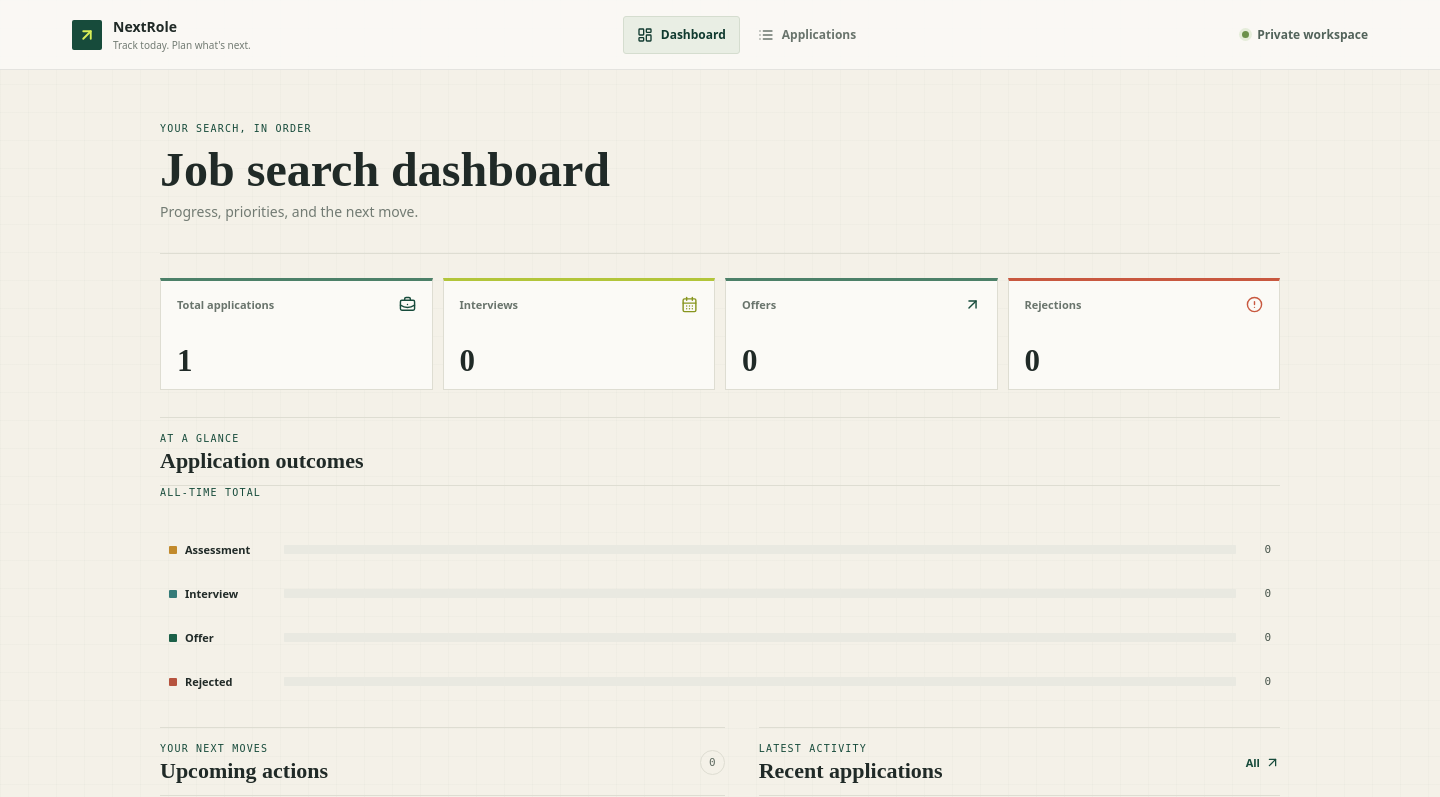
Test: Application tracker › allows removal cancellation and confirms deletion when accepted
The image size is (1440, 797).
Click the button "Applications" at (807,34), box [744, 16, 870, 54]
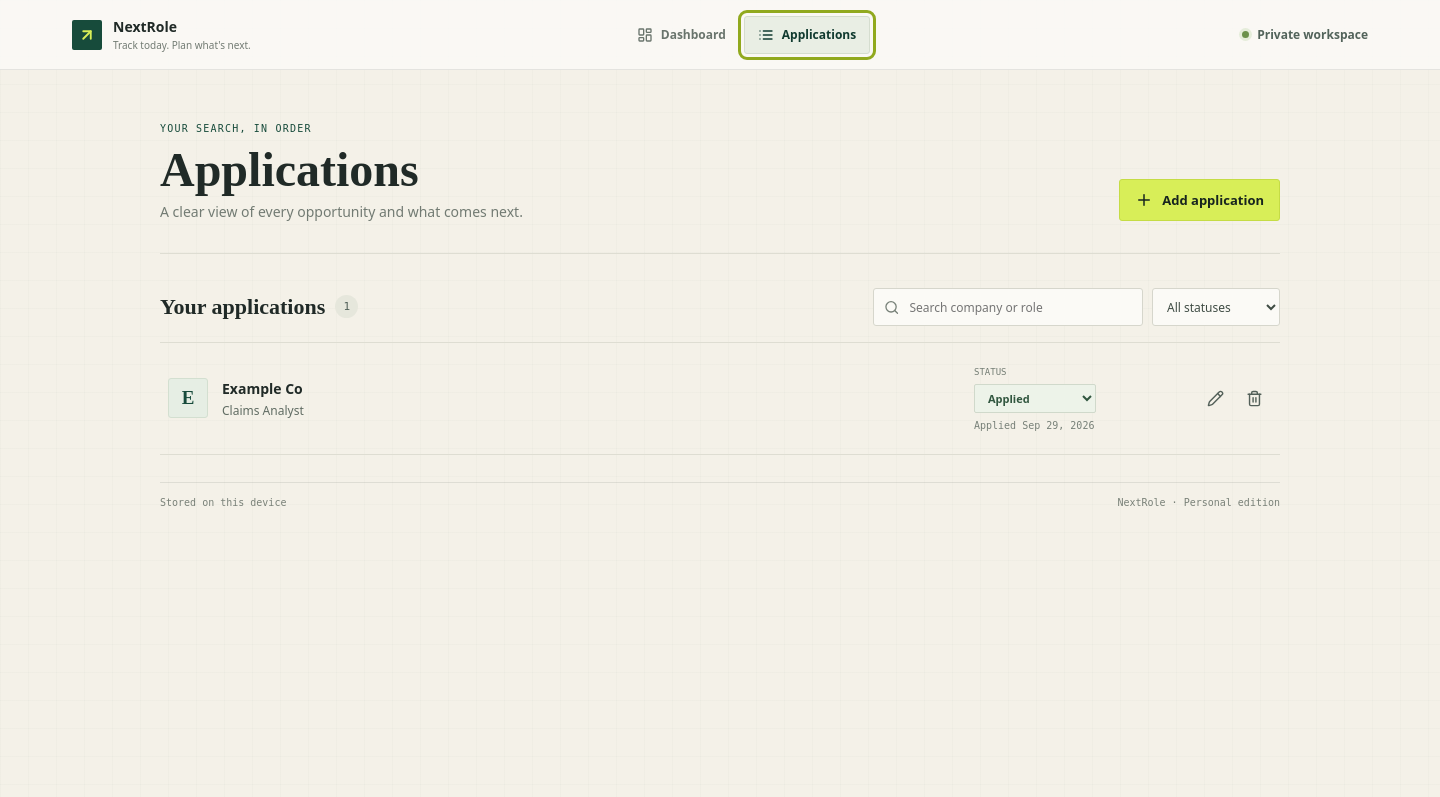
Click the button named "Remove Claims Analyst at Example Co" at (1254,398), box [1236, 380, 1272, 416]
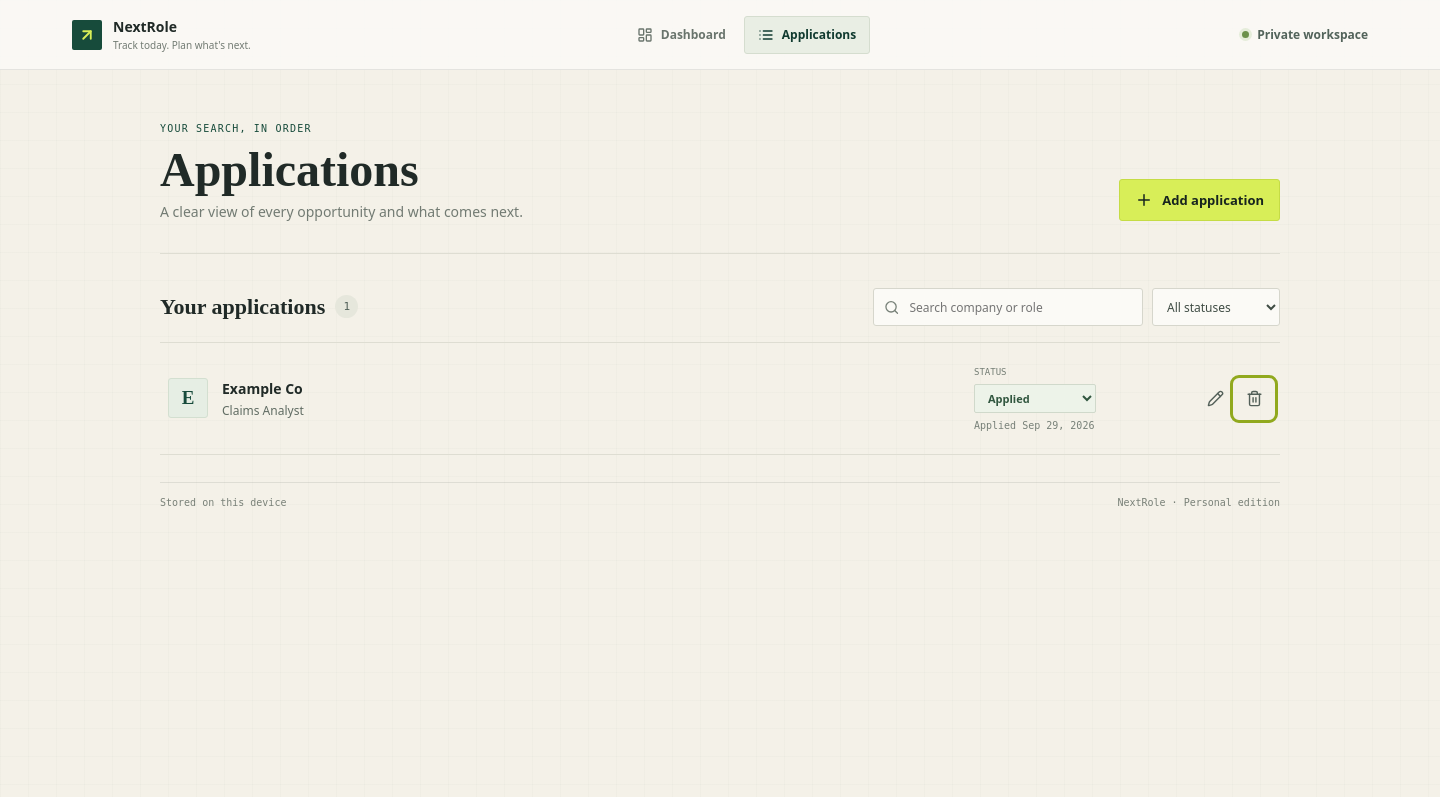
Expected: the heading "Example Co" is shown, [222, 379, 304, 398]
Click the button named "Remove Claims Analyst at Example Co" at (1254,398), box [1236, 380, 1272, 416]
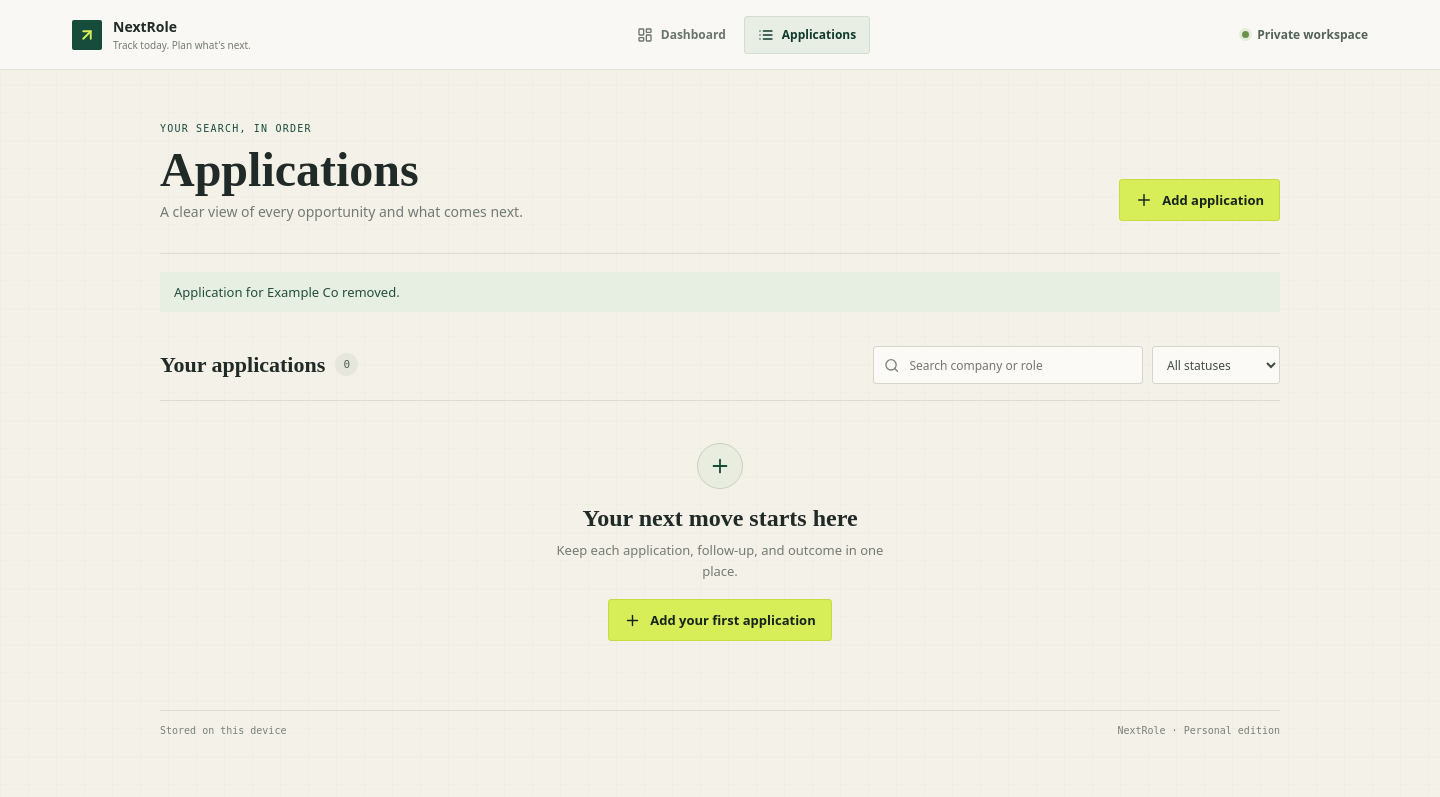
Result: the heading "Your next move starts here" is shown at [582, 504, 858, 533]
